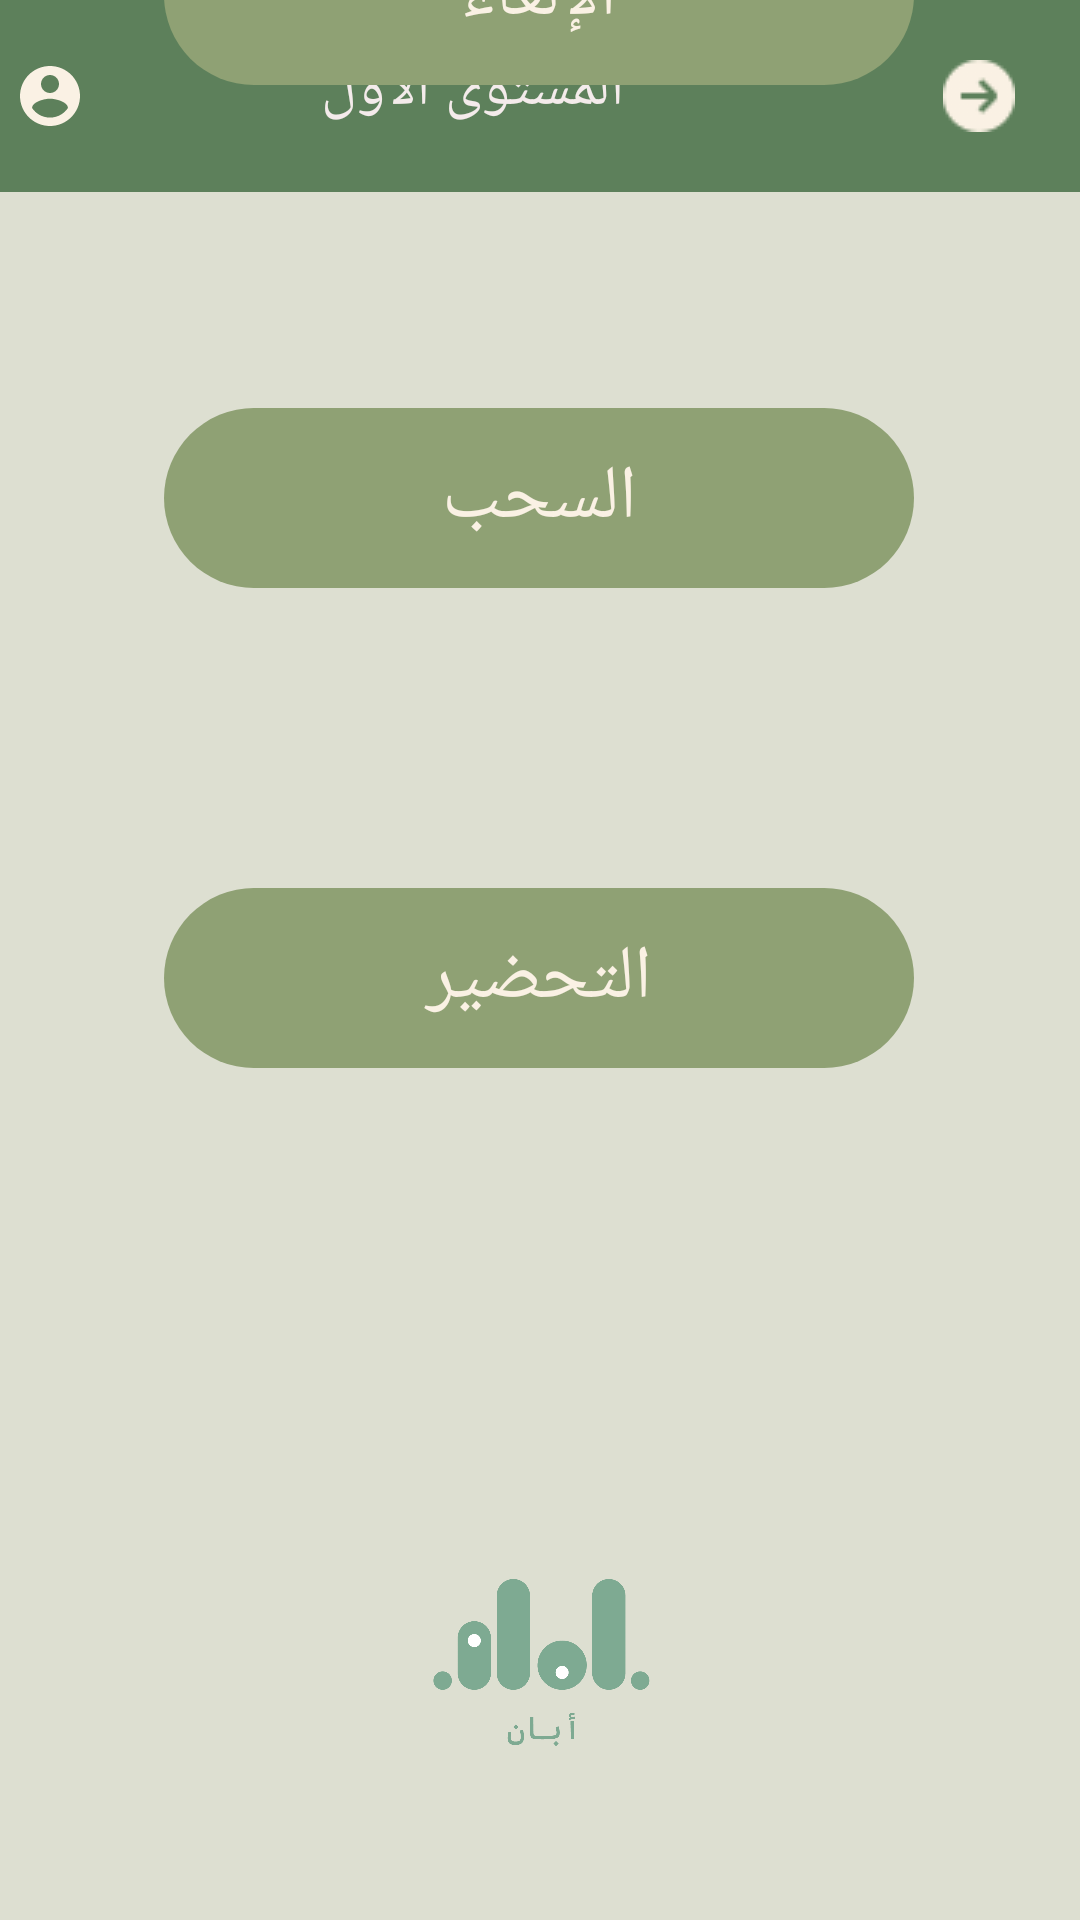

Where to tap for icons on this 1080 × 1920 app screen, as (x,y):
arrow: (979,96)
